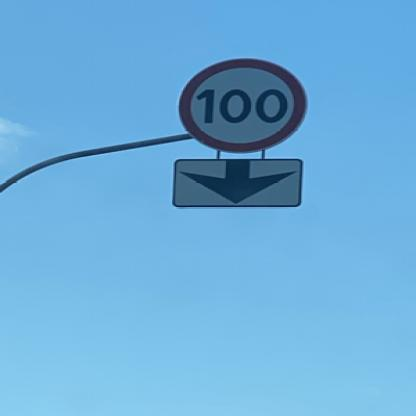Speed Limit 100: (176, 59, 306, 151)
